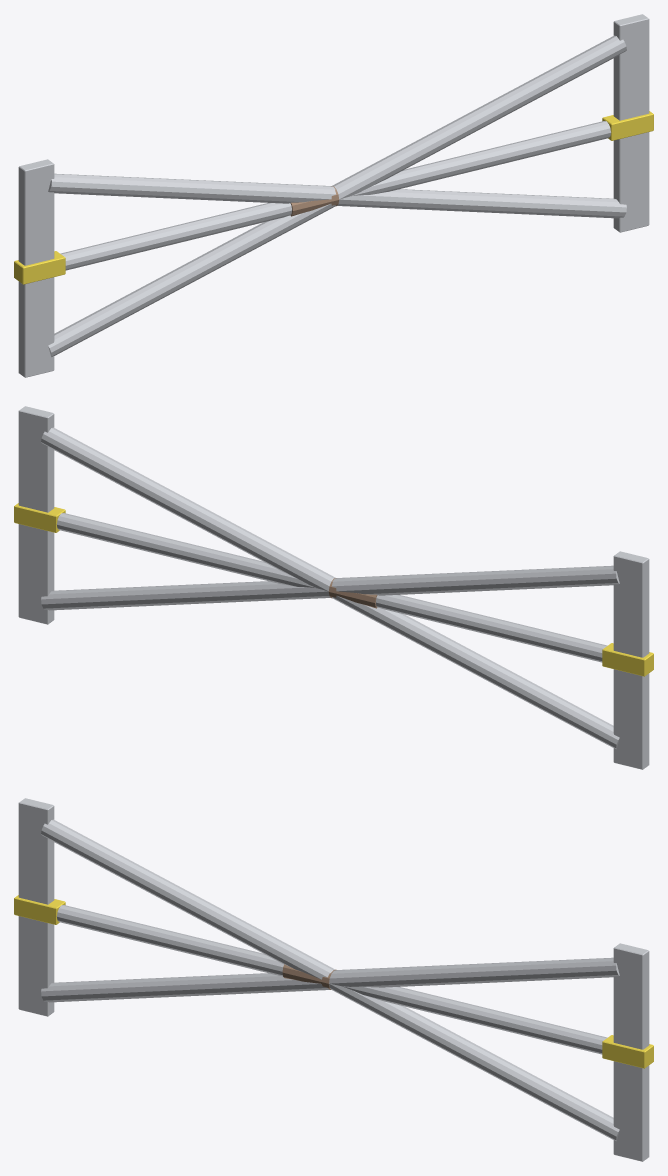
File: offshore-oil-rig-and-platform-jacket-brace-panel-2ad9ed81__37003.glb
3 renders of one model, top to bottom at view 1: azimuth 30°, elevation 25°; view 2: azimuth 150°, elevation 25°; view 3: azimuth 330°, elevation 25°, orthographic.
Visible parts, largest first — view 1: jacket-brace-panel; view 2: jacket-brace-panel; view 3: jacket-brace-panel.
Part boxes in pixels (box(x1,y1,x2,y2)): jacket-brace-panel: box(14, 14, 653, 377); jacket-brace-panel: box(14, 406, 653, 769); jacket-brace-panel: box(14, 798, 653, 1161).
Size of the model in its own units: 19.1 by 6 by 0.5512.
